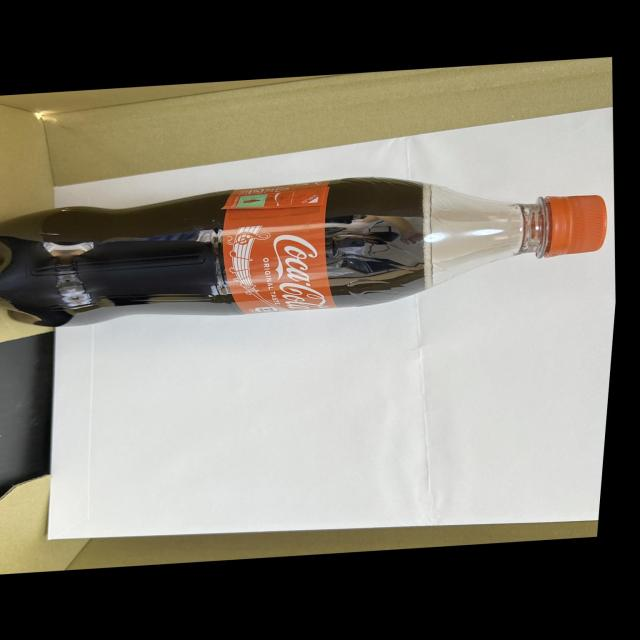high: (0, 177, 607, 327)
